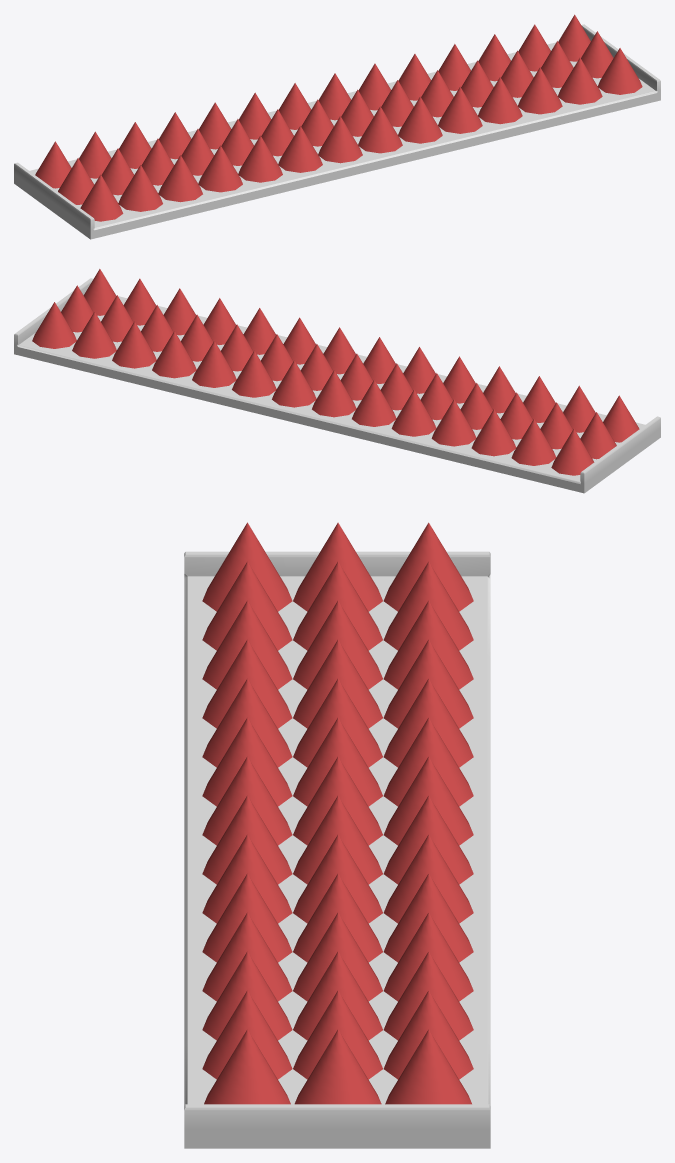
Rendered from Spikes.fbx.
The picture shows the model from 3 angles, top to bottom: view 1: azimuth 30°, elevation 25°; view 2: azimuth 150°, elevation 25°; view 3: azimuth 270°, elevation 25°; orthographic projection. The views are drawn at different scales.
Parts seen in each view (by area): view 1: Spikes; view 2: Spikes; view 3: Spikes.
Part boxes in pixels (x1,y1,x2,y2): Spikes: (14, 14, 660, 239); Spikes: (14, 269, 660, 493); Spikes: (184, 522, 490, 1148).
Size of the model in its own units: 1454 by 116 by 338.
